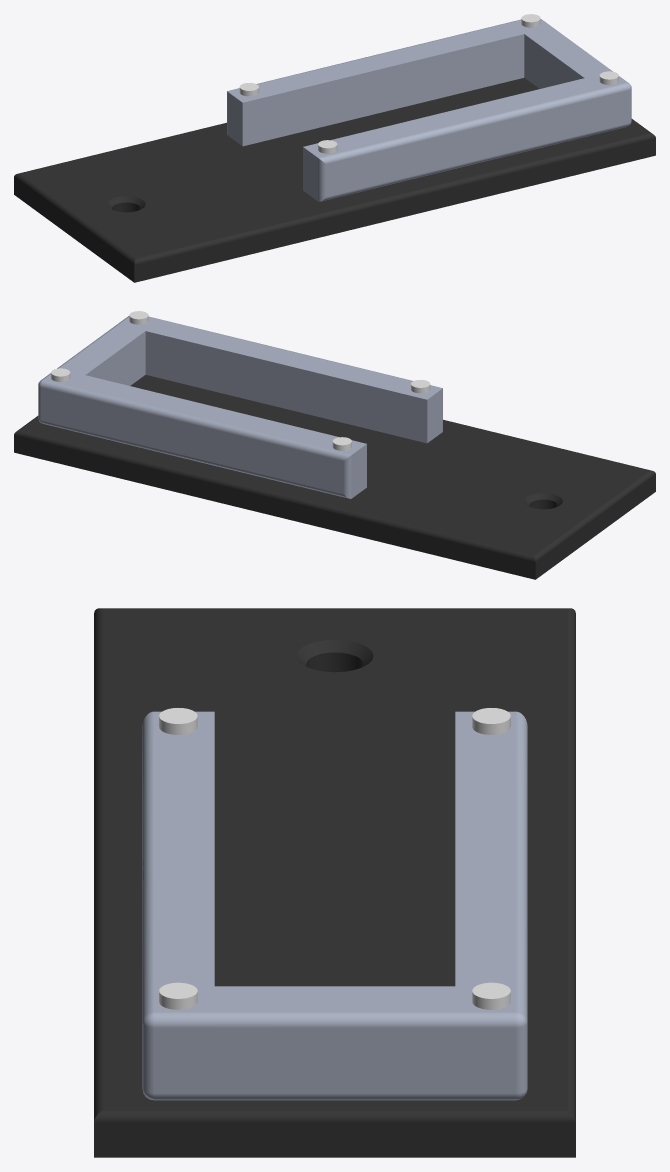
Rendered from Slider Crank Mechanism_2.obj.
The picture shows the model from 3 angles, top to bottom: view 1: azimuth 30°, elevation 25°; view 2: azimuth 150°, elevation 25°; view 3: azimuth 270°, elevation 25°; orthographic projection. The views are drawn at different scales.
Parts seen in each view (by area): view 1: mesh 1 Slider Crank Mechanism_2, mesh 3 Bolt-2-solid1 face, mesh 2 Base-1-solid1 face; view 2: mesh 1 Slider Crank Mechanism_2, mesh 3 Bolt-2-solid1 face, mesh 2 Base-1-solid1 face; view 3: mesh 1 Slider Crank Mechanism_2, mesh 3 Bolt-2-solid1 face, mesh 2 Base-1-solid1 face.
Part boxes in pixels (bbox=[...]): mesh 1 Slider Crank Mechanism_2: bbox=[14, 77, 655, 282]; mesh 3 Bolt-2-solid1 face: bbox=[227, 19, 631, 201]; mesh 2 Base-1-solid1 face: bbox=[239, 14, 618, 153]; mesh 1 Slider Crank Mechanism_2: bbox=[14, 374, 655, 579]; mesh 3 Bolt-2-solid1 face: bbox=[38, 316, 442, 498]; mesh 2 Base-1-solid1 face: bbox=[51, 311, 430, 450]; mesh 1 Slider Crank Mechanism_2: bbox=[94, 608, 575, 1157]; mesh 3 Bolt-2-solid1 face: bbox=[142, 711, 527, 1100]; mesh 2 Base-1-solid1 face: bbox=[159, 708, 510, 1009].
Bounding box in the file's own units: 0.25 × 0.0325 × 0.1.
